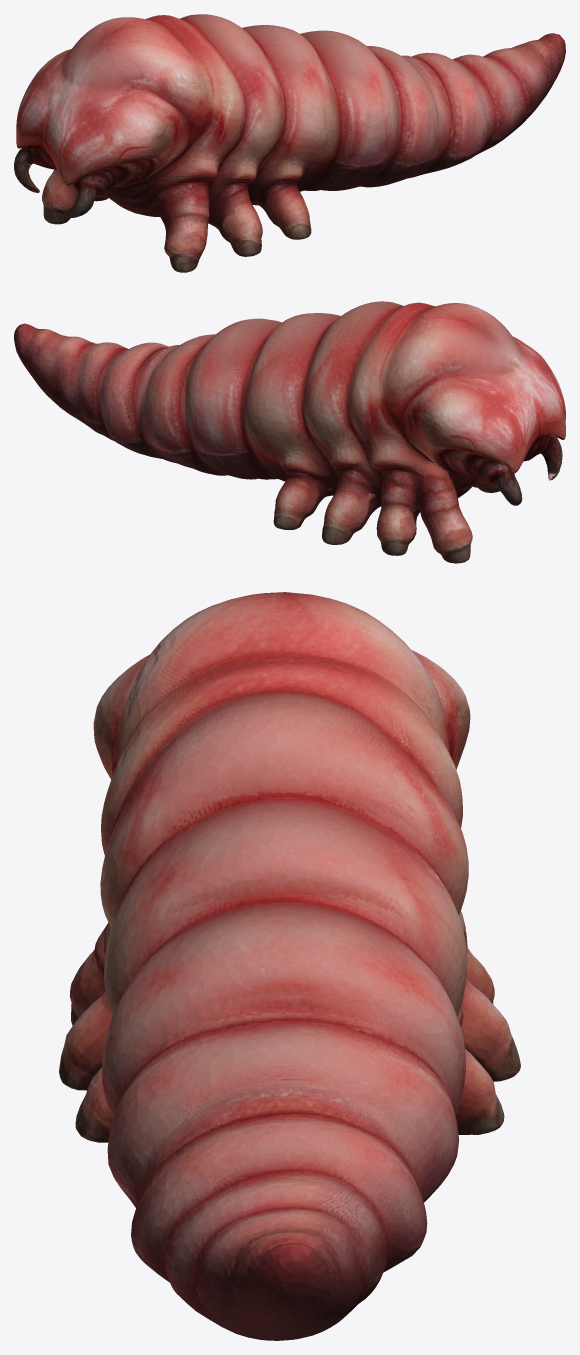
The model's file is foe_heart_grubs.glb.
3 renders of one model, top to bottom at view 1: azimuth 30°, elevation 25°; view 2: azimuth 150°, elevation 25°; view 3: azimuth 270°, elevation 25°, orthographic. The views are drawn at different scales.
Parts seen in each view (by area): view 1: temp_mesh.ply; view 2: temp_mesh.ply; view 3: temp_mesh.ply.
Boxes of the visible parts, x1,y1,x2,y2 form: temp_mesh.ply: (14, 14, 565, 272); temp_mesh.ply: (14, 301, 565, 563); temp_mesh.ply: (59, 592, 520, 1340).
Size of the model in its own units: 1.97 by 0.7522 by 0.7513.
Materials: 1 (1 with a texture image).
